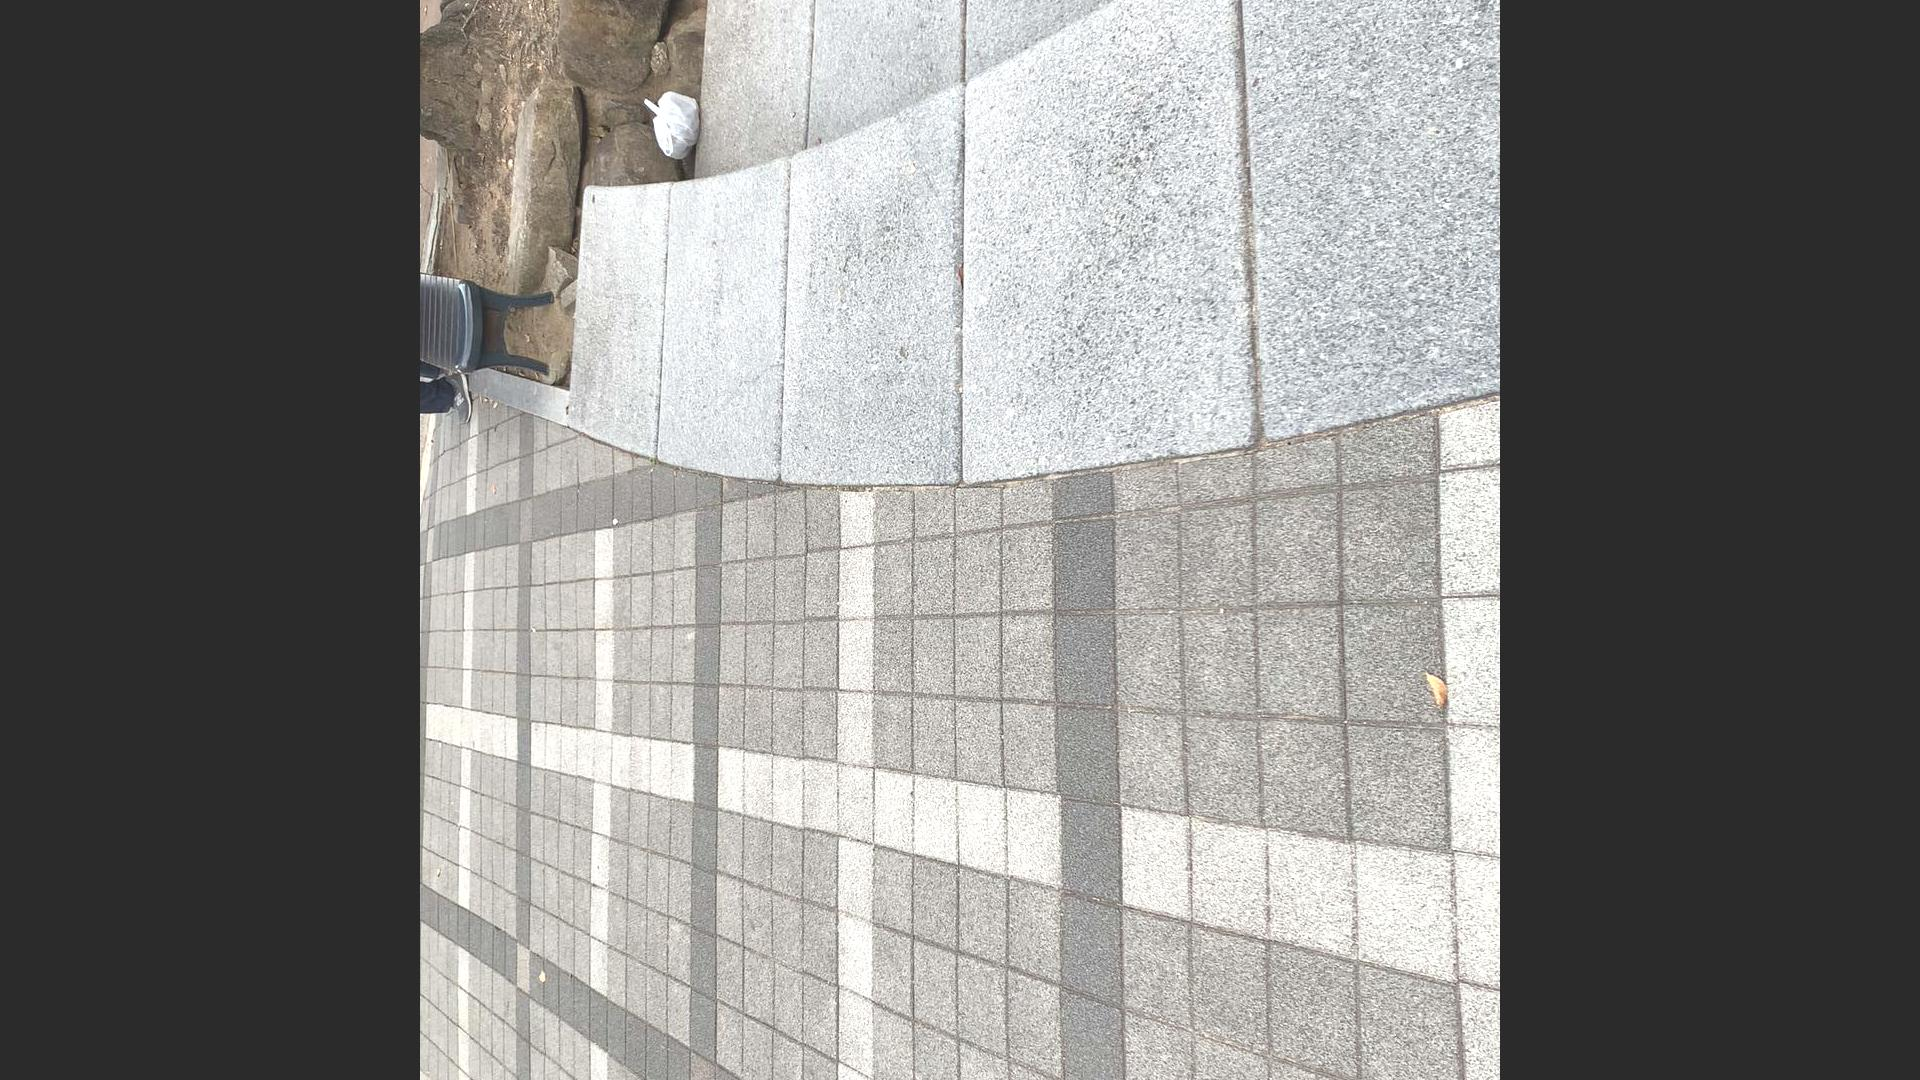white_bag: (632, 84, 702, 169)
